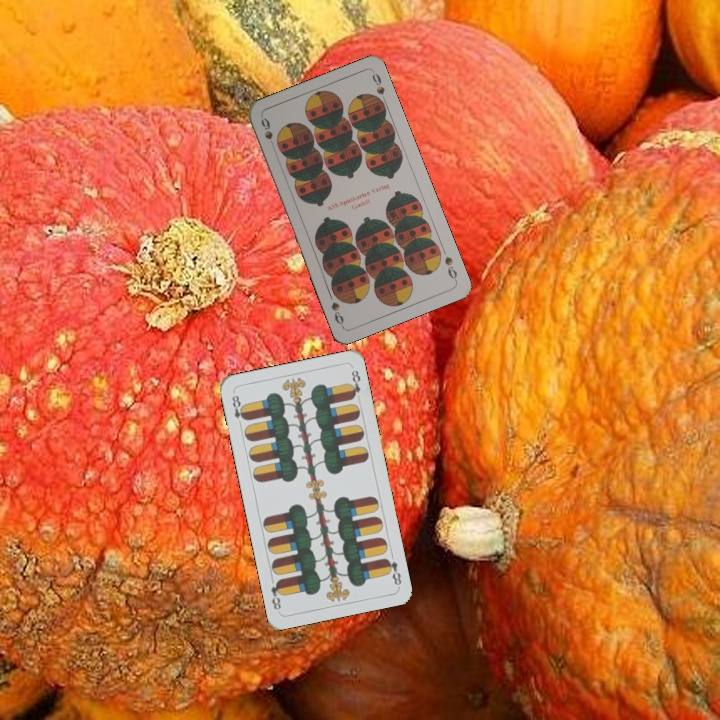E8: (228, 389, 249, 429), (381, 554, 404, 588)
S9: (257, 114, 278, 153), (441, 252, 460, 284)
